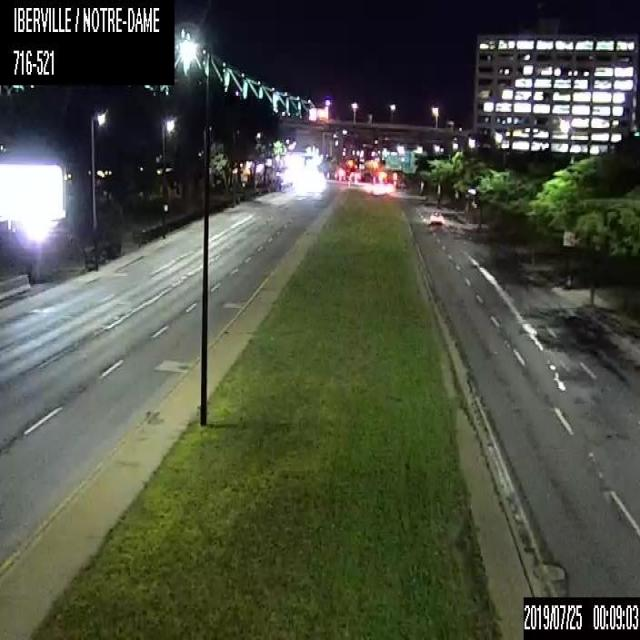vehicle: (427, 210, 445, 226)
